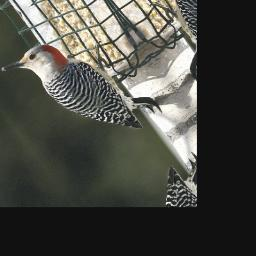Woodpecker: (0, 7, 164, 174)
